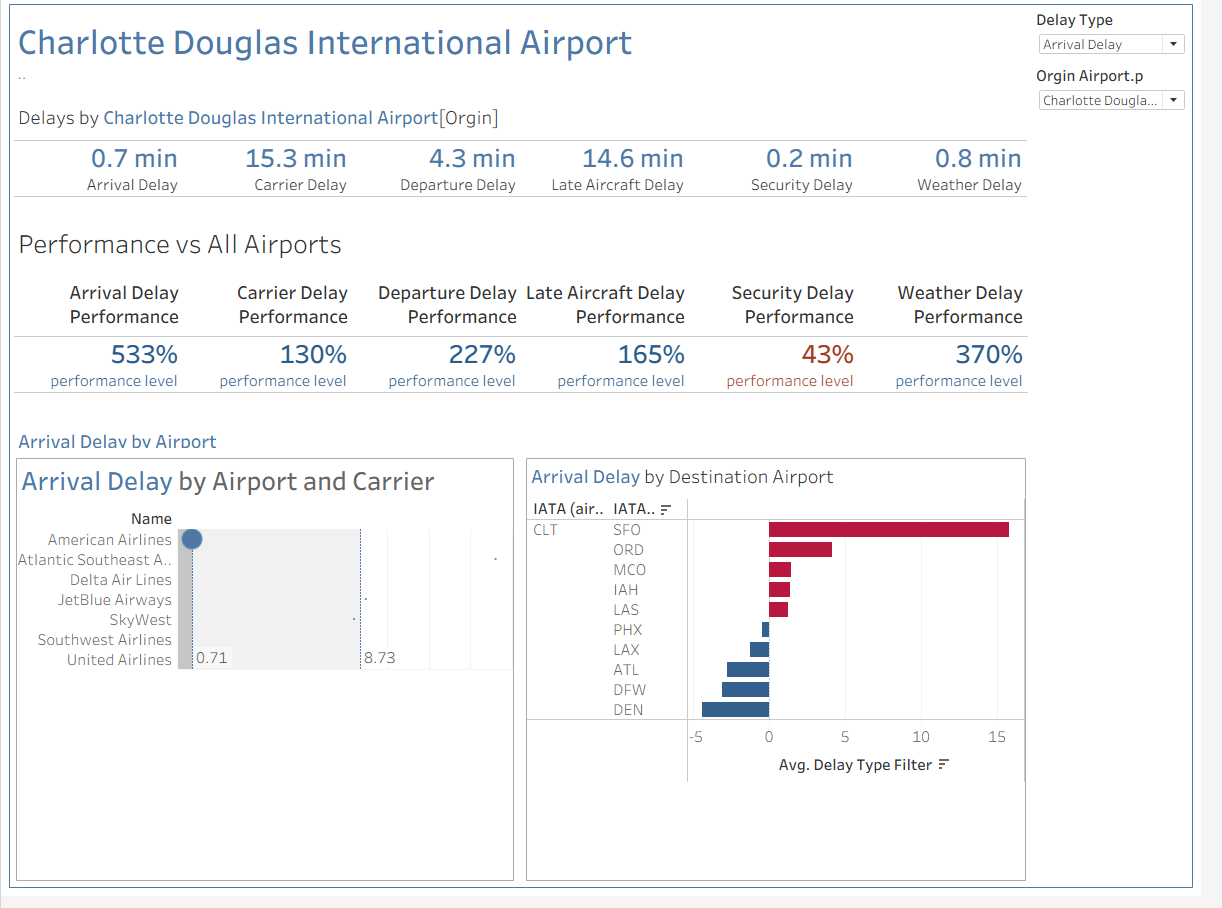

What the dashboard file says about the page in this screenshot:
{"tool":"tableau","page":{"name":"Dashboard 1","canvas":[1200,1100],"ordinal":0},"visuals":[{"type":"text","box":[9,9,1022,99]},{"type":"parameter","param":"[Parameters].[Parameter 2]","box":[1031,9,160,56]},{"type":"parameter","param":"[Parameters].[Parameter 1]","box":[1031,65,160,56]},{"type":"worksheet","title":"Delays by Orgin Airport","mark":"Automatic","box":[9,121,1022,122]},{"type":"worksheet","title":"Performance vs All Airports","mark":"Automatic","box":[9,243,1022,202]},{"type":"worksheet","title":"Delay by Airport","mark":"Automatic","rows":["Calculation_1233423361102073868"],"cols":["FL_DATE"],"box":[9,445,1022,175]},{"type":"worksheet","title":"Delay by Airport and Carrier","mark":"Circle","rows":["Name"],"cols":["Calculation_1233423361102073868"],"box":[9,620,510,471]},{"type":"worksheet","title":"Flight Delays by Destination Airport","mark":"Automatic","rows":["IATA (airports.csv)","IATA (airports.csv) #1"],"cols":["Calculation_1233423361102073868"],"box":[519,620,512,471]}]}

Visuals, with their boxes on the page's 1200x1100 design canvas (x1, y1, x2, y2). These are canvas units, not pixel positions in the 1222x908 screenshot, which may show the page scaled, cropped or inside an application window:
text: x1=9, y1=9, x2=1031, y2=108
parameter: x1=1031, y1=9, x2=1191, y2=65
parameter: x1=1031, y1=65, x2=1191, y2=121
"Delays by Orgin Airport" worksheet: x1=9, y1=121, x2=1031, y2=243
"Performance vs All Airports" worksheet: x1=9, y1=243, x2=1031, y2=445
"Delay by Airport" worksheet: x1=9, y1=445, x2=1031, y2=620
"Delay by Airport and Carrier" worksheet (Circle marks): x1=9, y1=620, x2=519, y2=1091
"Flight Delays by Destination Airport" worksheet: x1=519, y1=620, x2=1031, y2=1091
